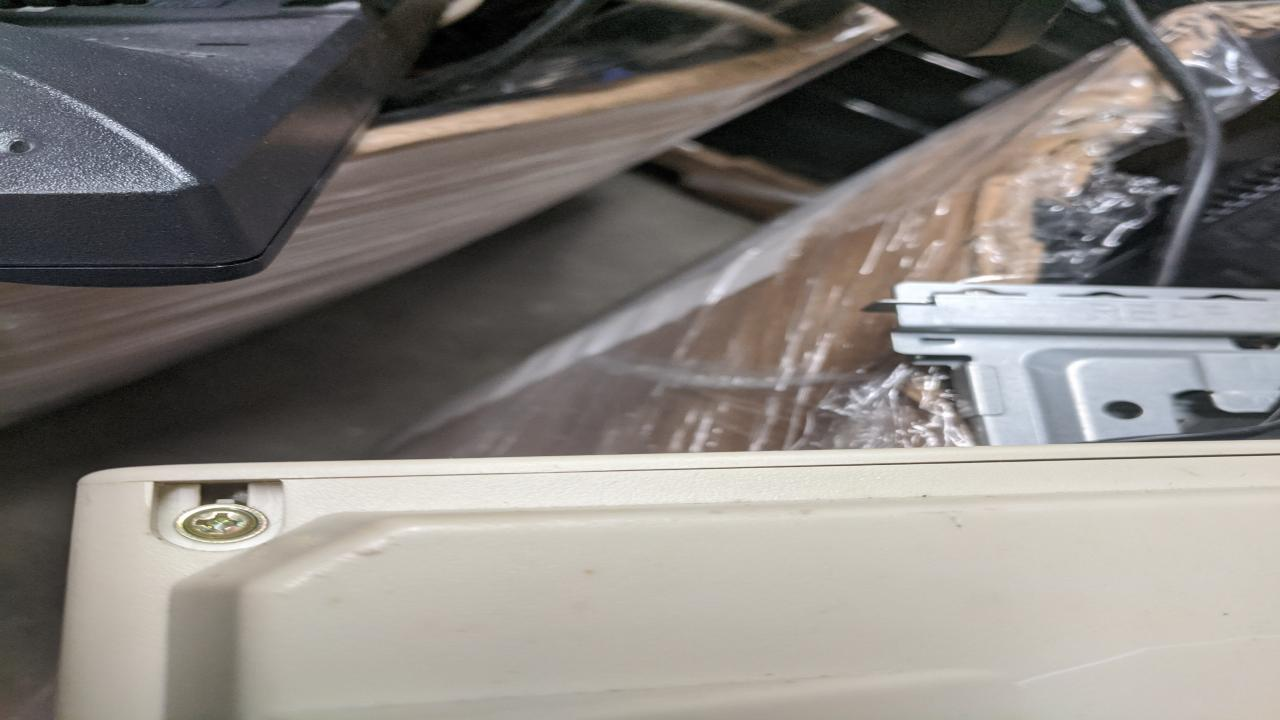CRS: (178, 504, 270, 544)
